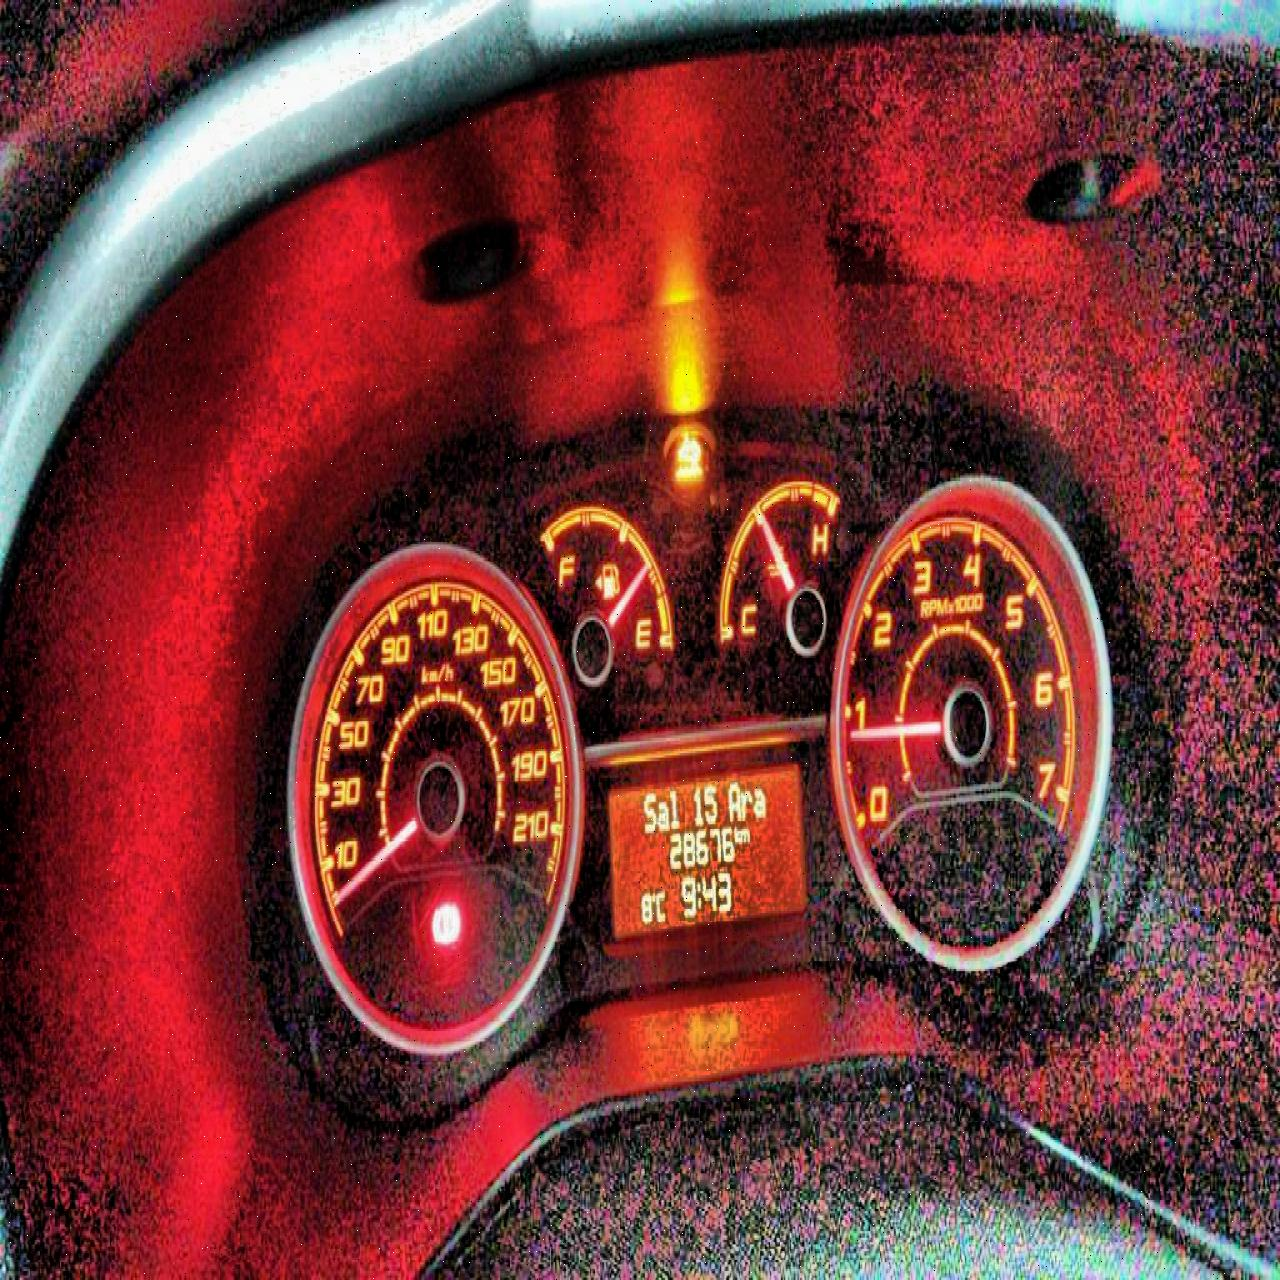1: (692, 781, 702, 826)
2: (667, 831, 681, 869)
3: (716, 869, 731, 913)
4: (701, 873, 715, 911)
5: (702, 779, 717, 822)
6: (695, 829, 707, 864), (722, 824, 733, 859)
7: (709, 824, 720, 859)
8: (681, 829, 695, 864), (640, 891, 651, 922)
9: (680, 873, 695, 918)
X: (642, 789, 655, 833), (728, 778, 741, 821), (669, 787, 680, 829), (753, 784, 765, 816), (656, 795, 667, 829), (741, 787, 751, 821), (655, 888, 666, 920), (740, 826, 750, 843), (734, 824, 740, 843), (696, 880, 700, 908)
odometer: (605, 757, 812, 945)
